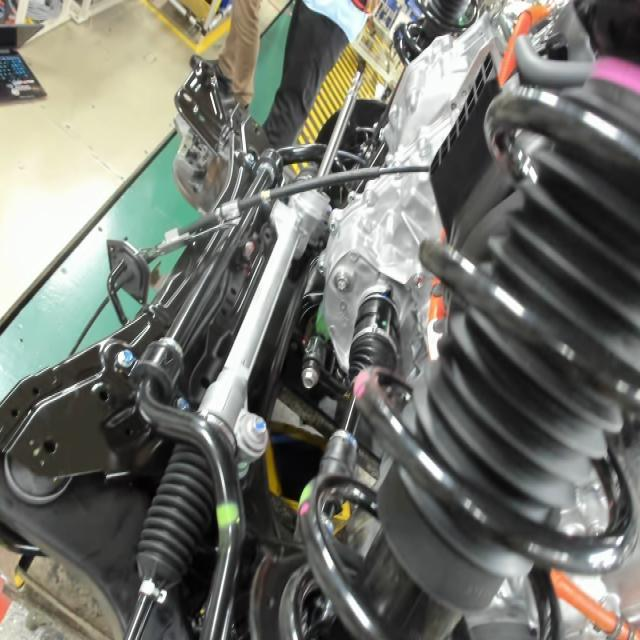Bar Stabilizer-HJ: (212, 495, 242, 535)
Bumper-PK: (581, 45, 640, 100)
